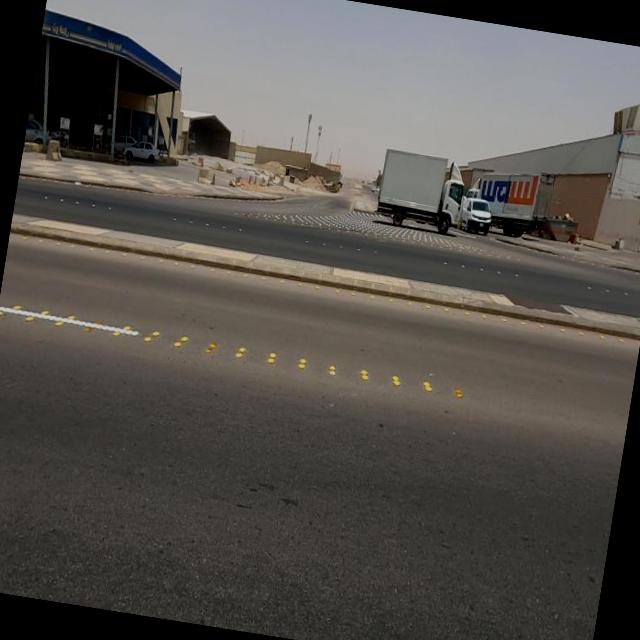debris: (535, 188, 594, 246), (554, 214, 597, 276)
